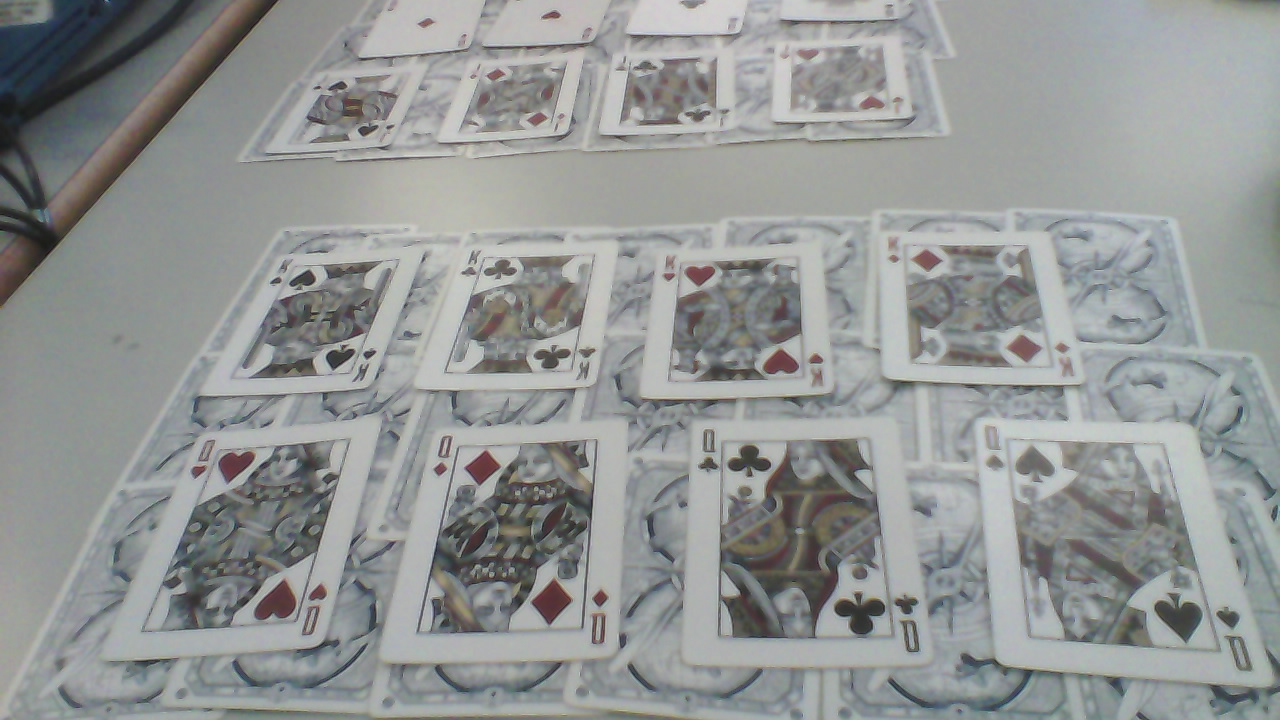jack_clubs: (616, 54, 737, 140)
jack_diamonds: (449, 57, 590, 145)
jack_hearts: (775, 44, 919, 129)
jack_spades: (271, 68, 431, 156)
king_clubs: (434, 244, 623, 393)
king_diamonds: (880, 236, 1090, 391)
king_hearts: (647, 252, 838, 398)
king_spades: (196, 255, 424, 400)
queen_clubs: (697, 422, 933, 671)
queen_diamonds: (409, 429, 639, 662)
queen_hearts: (103, 419, 393, 663)
queen_spades: (983, 423, 1275, 694)
